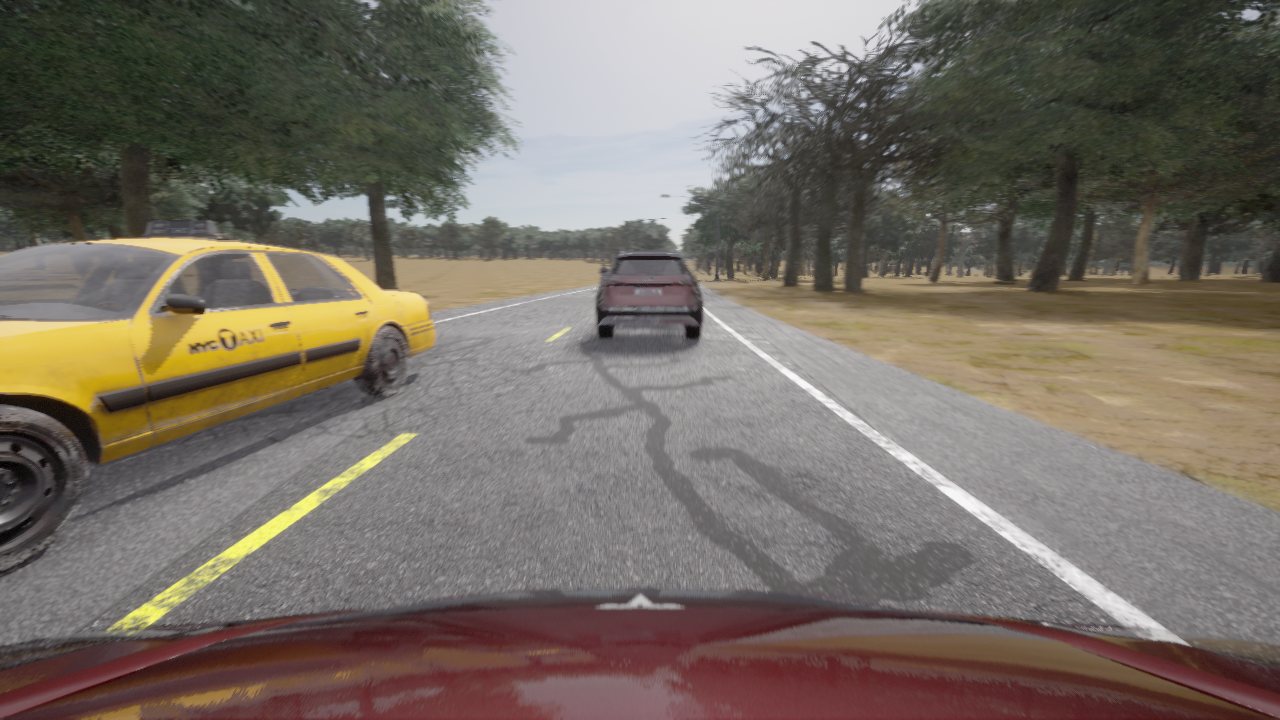cyclist: (0, 588, 1279, 719), (0, 220, 435, 573), (595, 248, 702, 338)
